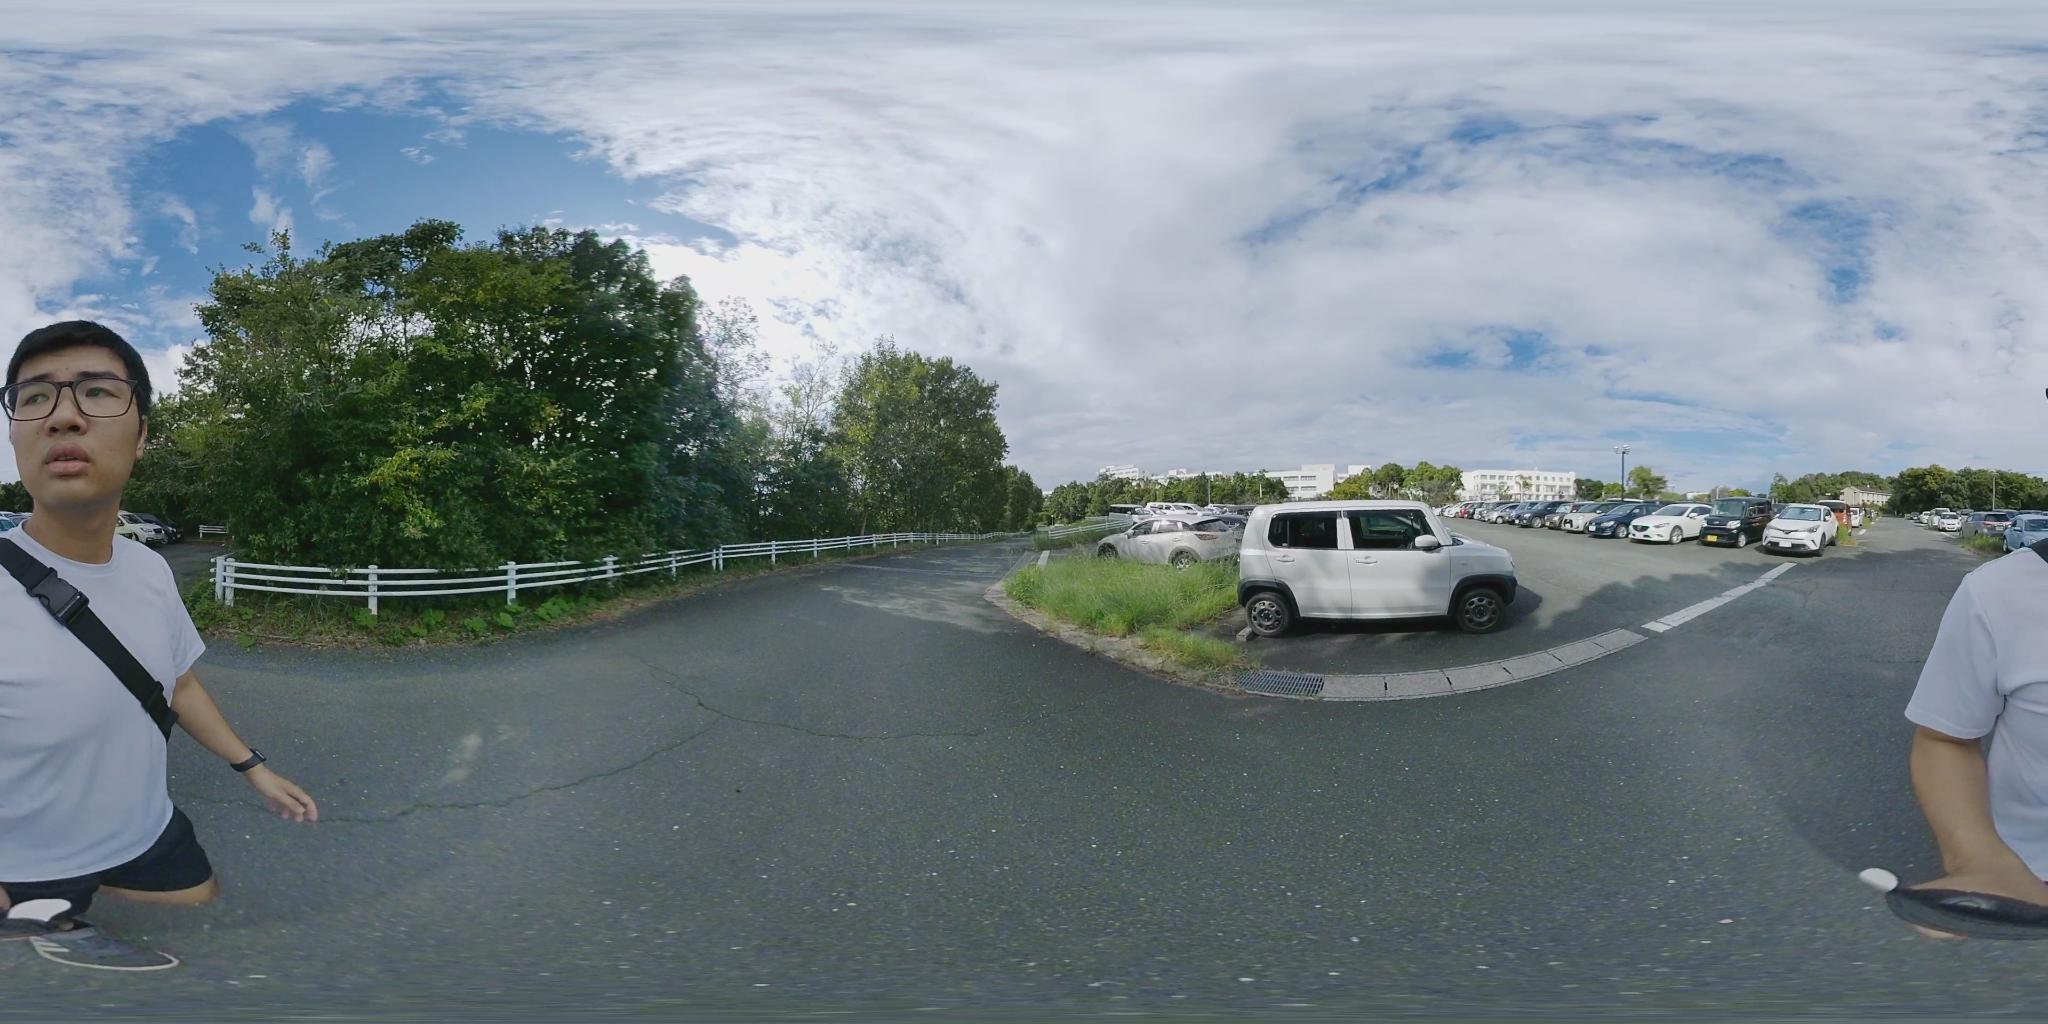car: (1232, 502, 1531, 639), (1629, 505, 1725, 542), (1766, 503, 1834, 552), (1704, 498, 1770, 546), (1571, 504, 1644, 538), (1490, 500, 1556, 524), (2005, 515, 2044, 552), (1917, 509, 1962, 528)
